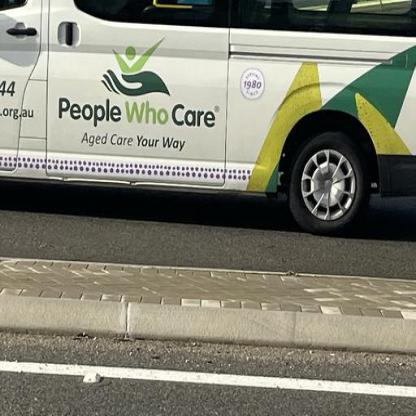Tire: (286, 124, 368, 236)
